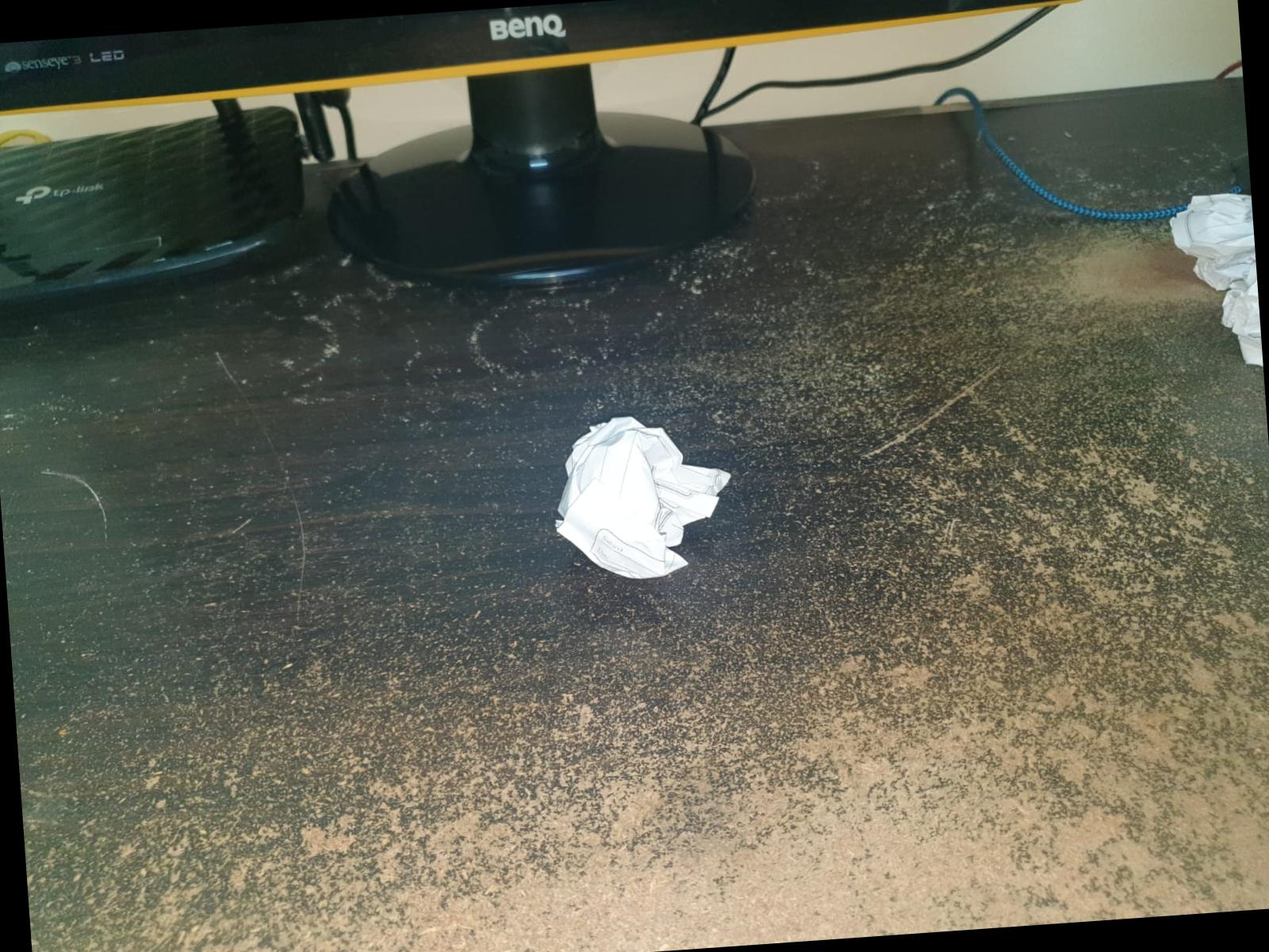Kertas: (553, 408, 738, 592), (555, 417, 729, 578)
